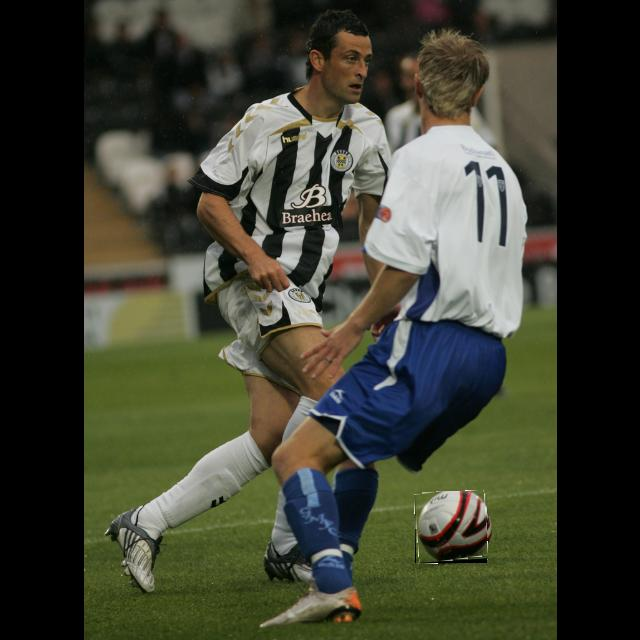Football: (415, 491, 487, 563)
